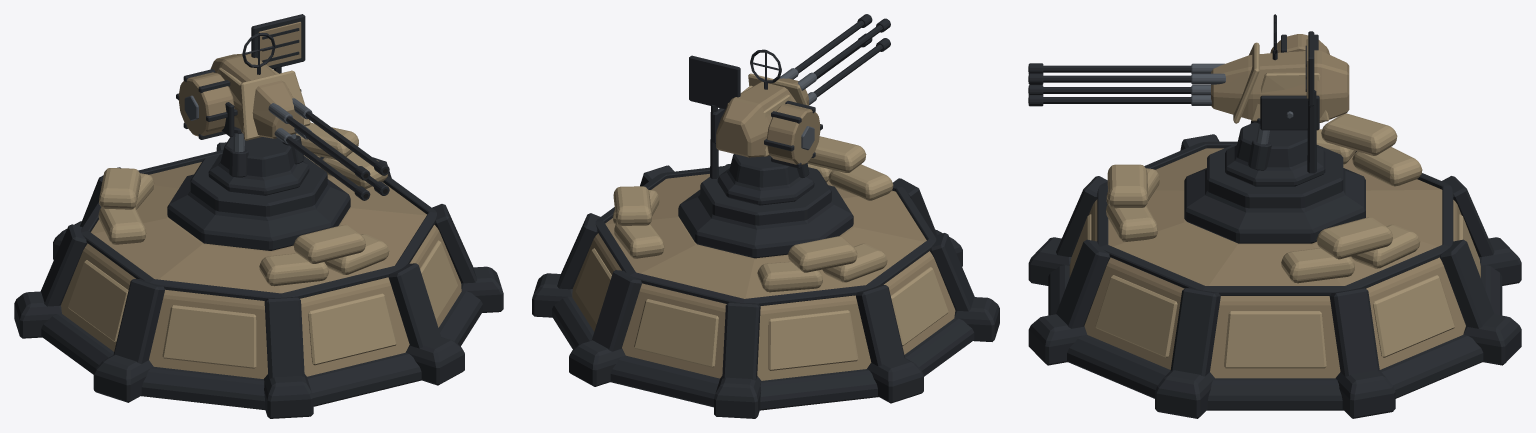
File: aa3-halcon-n5.glb
3 views of the same model, side by side, from view 1: azimuth 30°, elevation 25°; view 2: azimuth 150°, elevation 25°; view 3: azimuth 270°, elevation 25° (orthographic). The views are drawn at different scales.
Parts seen in each view (by area): view 1: casco, gun_pitch, turret_yaw; view 2: casco, gun_pitch, turret_yaw; view 3: casco, gun_pitch, turret_yaw.
Boxes of the visible parts, bbox=[...] form: casco: bbox=[14, 122, 503, 418]; gun_pitch: bbox=[176, 33, 389, 200]; turret_yaw: bbox=[208, 14, 309, 195]; casco: bbox=[532, 136, 999, 418]; gun_pitch: bbox=[712, 14, 890, 168]; turret_yaw: bbox=[689, 55, 814, 205]; casco: bbox=[1028, 113, 1521, 418]; gun_pitch: bbox=[1028, 14, 1349, 130]; turret_yaw: bbox=[1225, 31, 1325, 186].
Bounding box in the file's own units: 1 × 0.6714 × 1.
